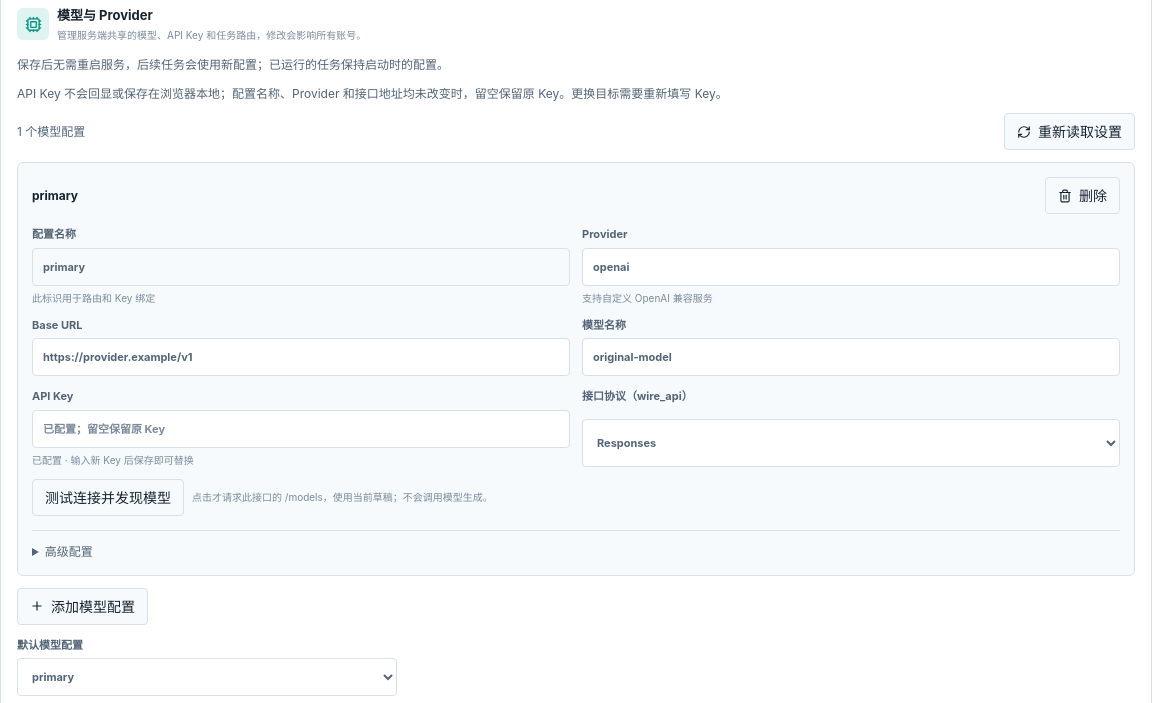
model diagnostics draft workbench › only requests the provider probe on an explicit click and submits current unsaved fields
The width and height of the screenshot is (1152, 703).
Replace the text in the field named "primary 模型名称" with "draft-model" at [851, 357], box left=582, top=338, right=1120, bottom=376
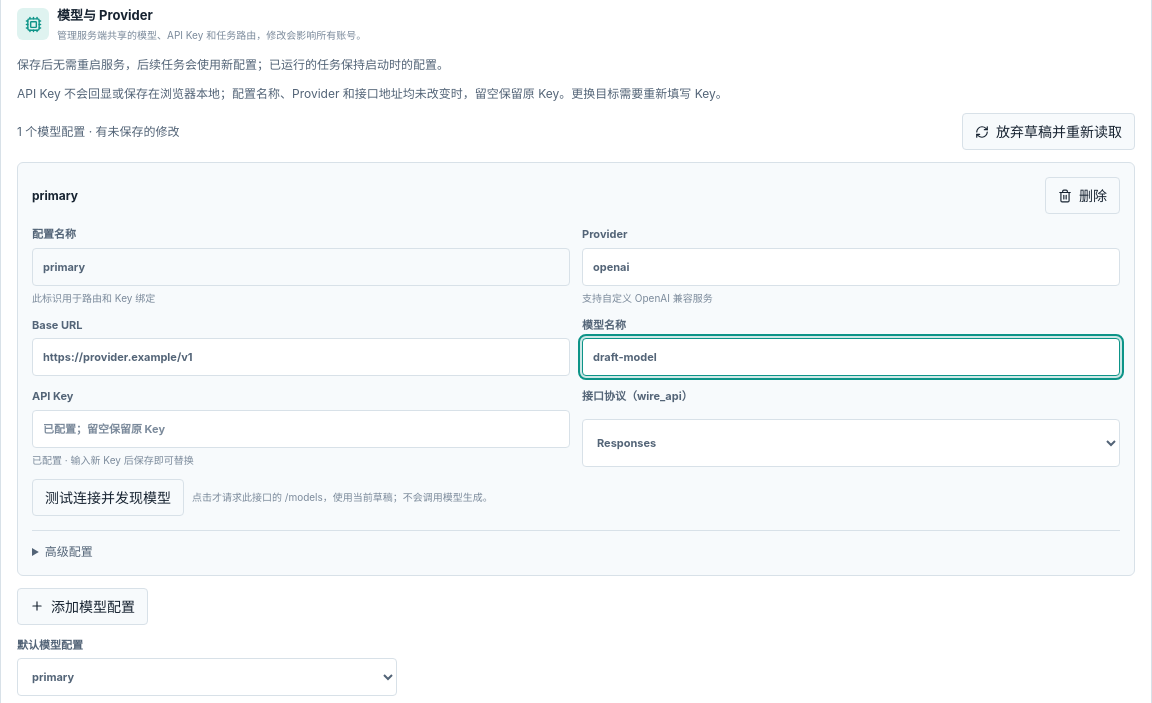
Click the button with aria-label "测试 primary 连接并发现模型".
click(108, 497)  # box left=32, top=479, right=184, bottom=516
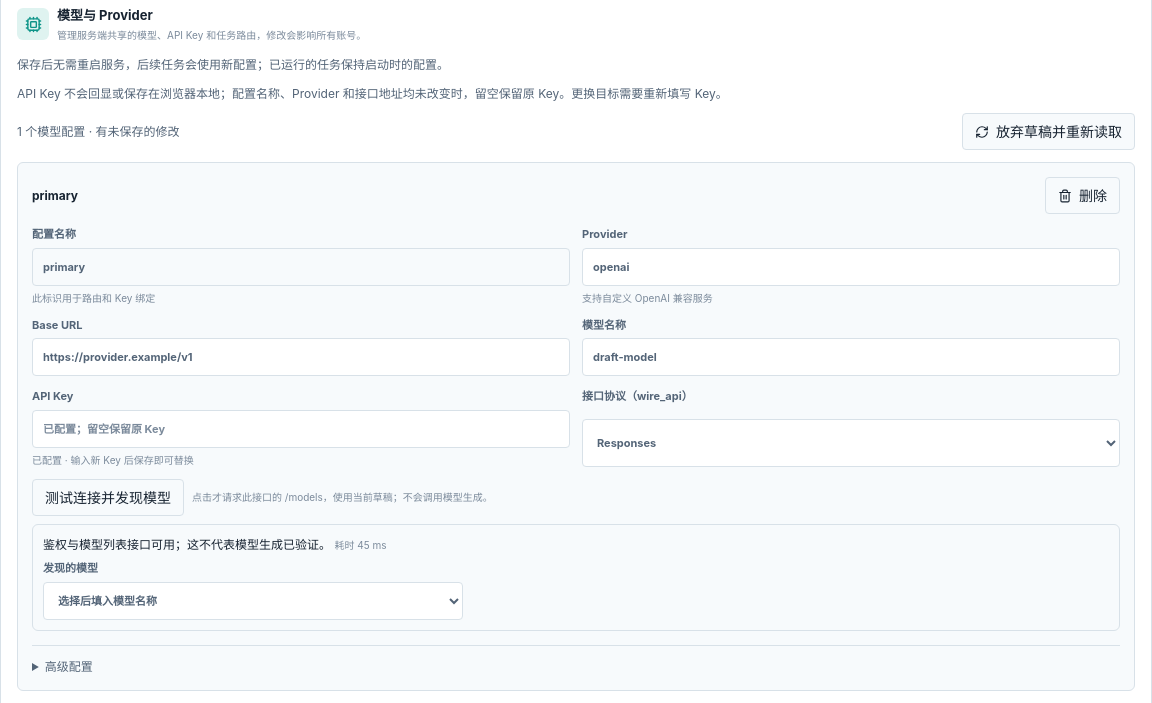
Check: the text "耗时 45 ms" is shown, box left=334, top=539, right=386, bottom=551
Select "discovered-model" in the dropdown named "primary 发现的模型" at [253, 601], box left=43, top=582, right=463, bottom=620
(page scrolled)
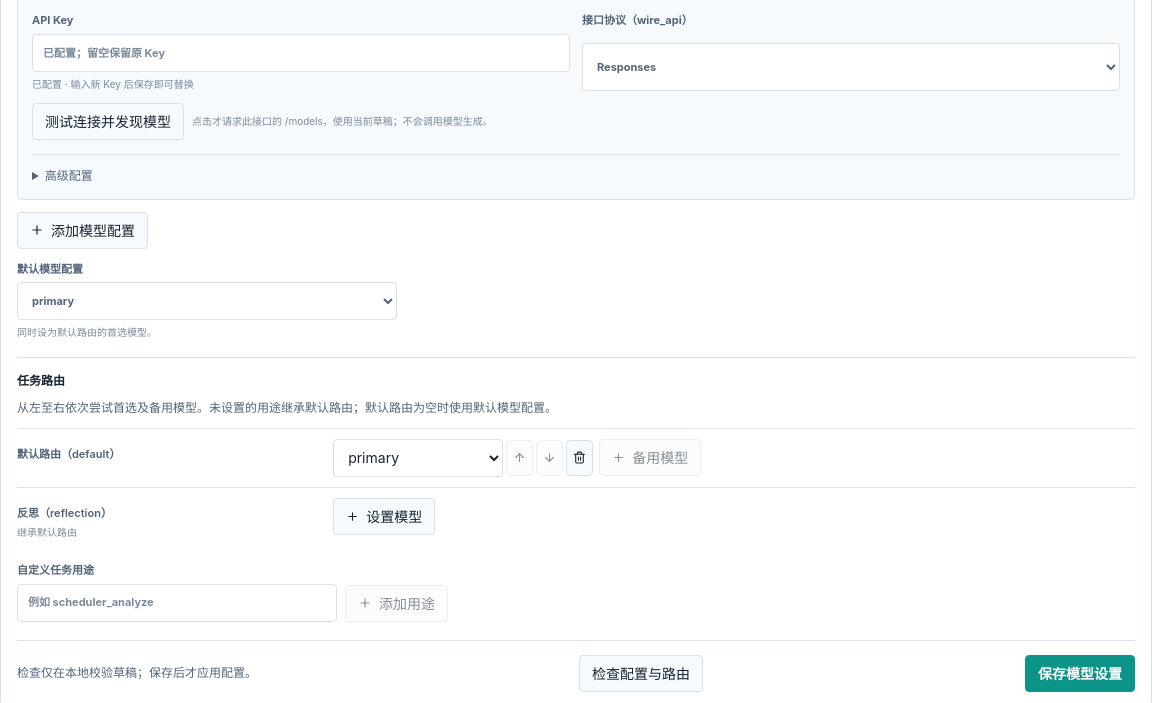
Check: the button "保存模型设置" is enabled, box left=1025, top=655, right=1135, bottom=692
Check: the dropdown labelled "primary 发现的模型" is gone
